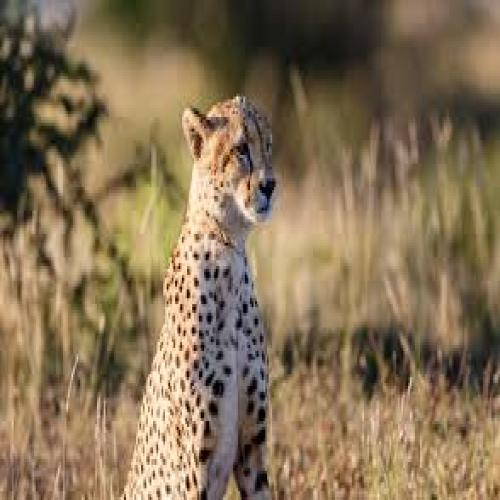cheetah-endangered: (125, 97, 278, 498)
